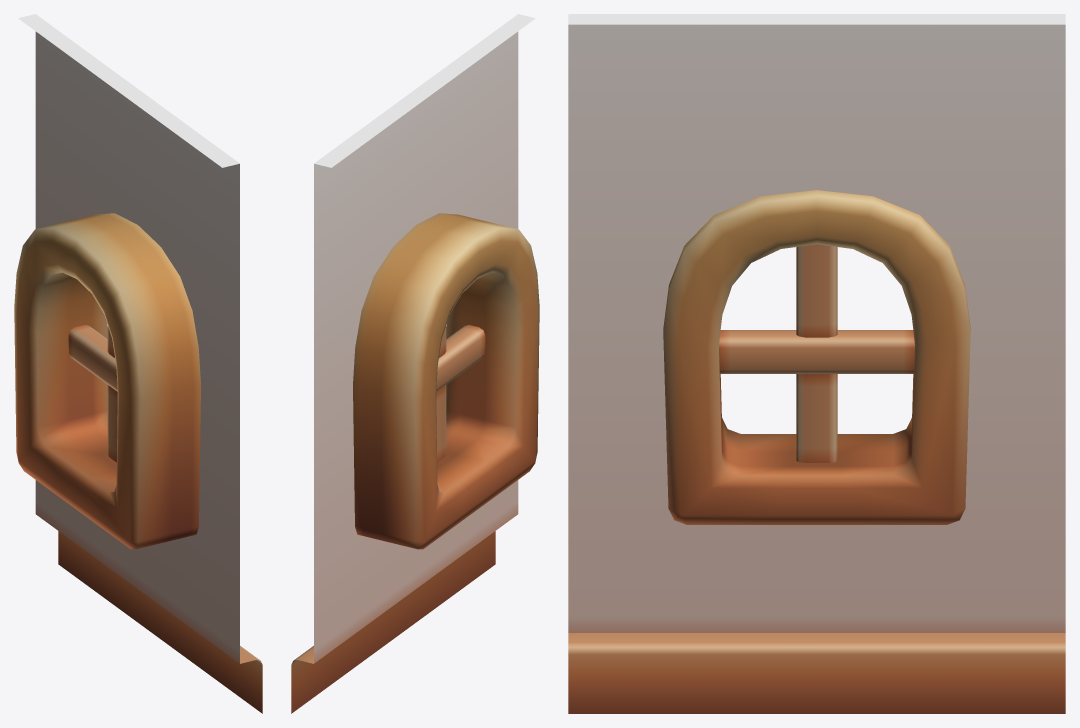
File: WhiteWall_Window.fbx
The picture shows the model from 3 angles, left to right: view 1: azimuth 30°, elevation 25°; view 2: azimuth 150°, elevation 25°; view 3: azimuth 270°, elevation 25°; orthographic projection. The views are drawn at different scales.
Visible parts, largest first — view 1: WhiteWall_Window; view 2: WhiteWall_Window; view 3: WhiteWall_Window.
Part boxes in pixels (left/top/right/bottom): WhiteWall_Window: left=14, top=14, right=262, bottom=713; WhiteWall_Window: left=291, top=14, right=539, bottom=713; WhiteWall_Window: left=568, top=14, right=1065, bottom=713.
Bounding box in the file's own units: 3 × 0.4882 × 2.
